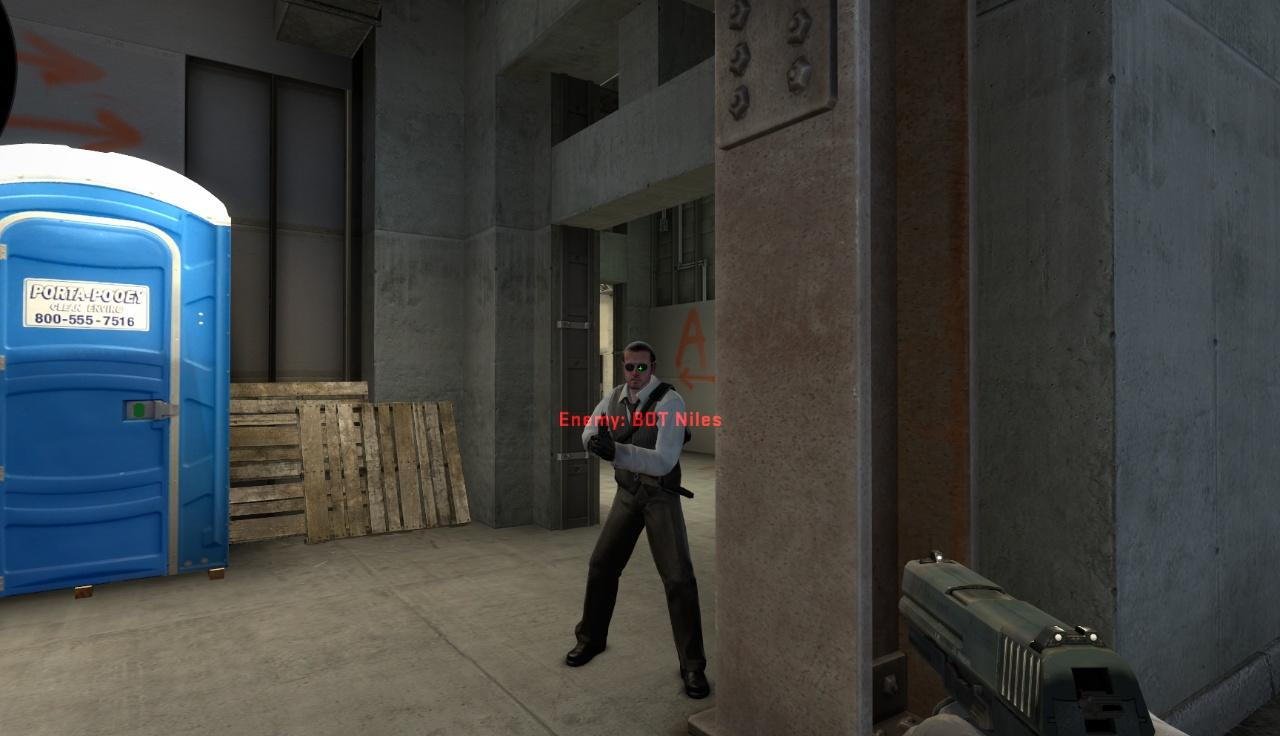pistol: (895, 551, 1164, 735)
tt: (566, 343, 706, 696)
tthead: (621, 342, 656, 388)
